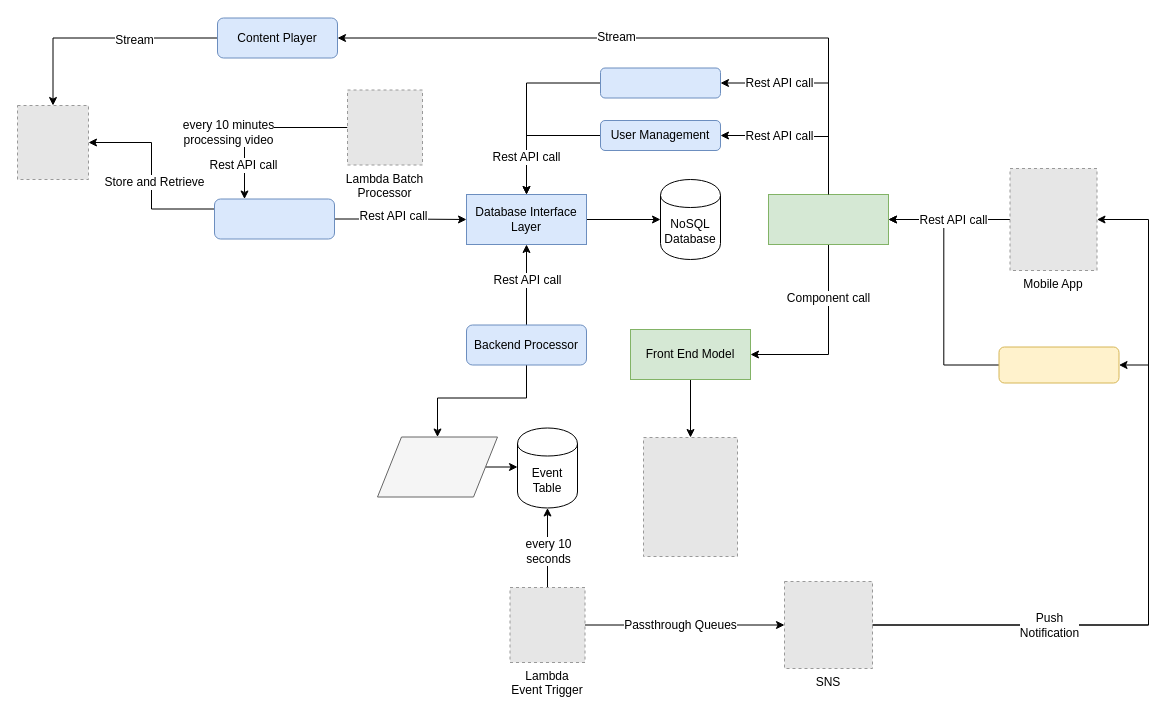
The diagram is 1174 pixels wide and 714 high, and some of its shapes have lost their labels. Grey dashed boxes stand in for pictures. Each missing label, with the centre of its shape:
"Content Manager" goes at (660,82).
"Event Fetcher" goes at (437,466).
"Front End Controller" goes at (828,219).
"PWA App" goes at (1058,364).
"Video Manager" goes at (274,218).
